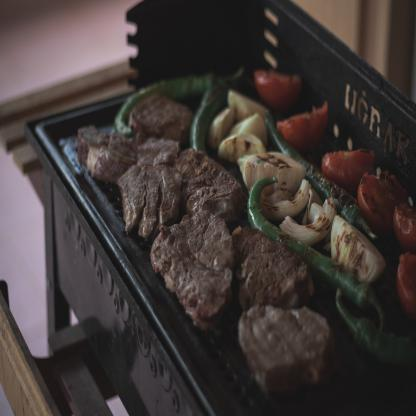Carne: (145, 204, 234, 327), (235, 303, 334, 389), (227, 224, 315, 310), (164, 149, 248, 221), (82, 124, 176, 177), (118, 163, 181, 236)
